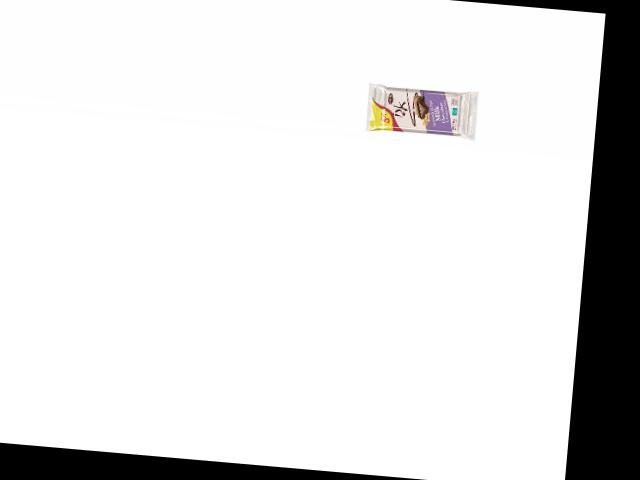chocolate: (362, 78, 480, 143)
